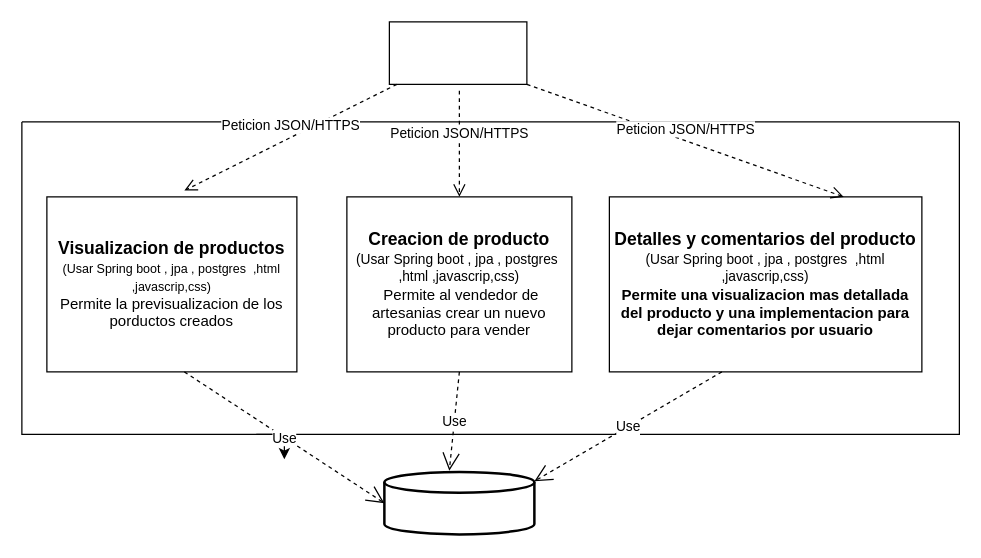
Image size: 981x558. Some labels were removed from this diagram. The box of each missing label's shape, as (x1, y1, x2, y2) in pixels:
Datrabase: (382, 470, 535, 535)
INICIO DE PAGINA: (388, 21, 527, 84)
